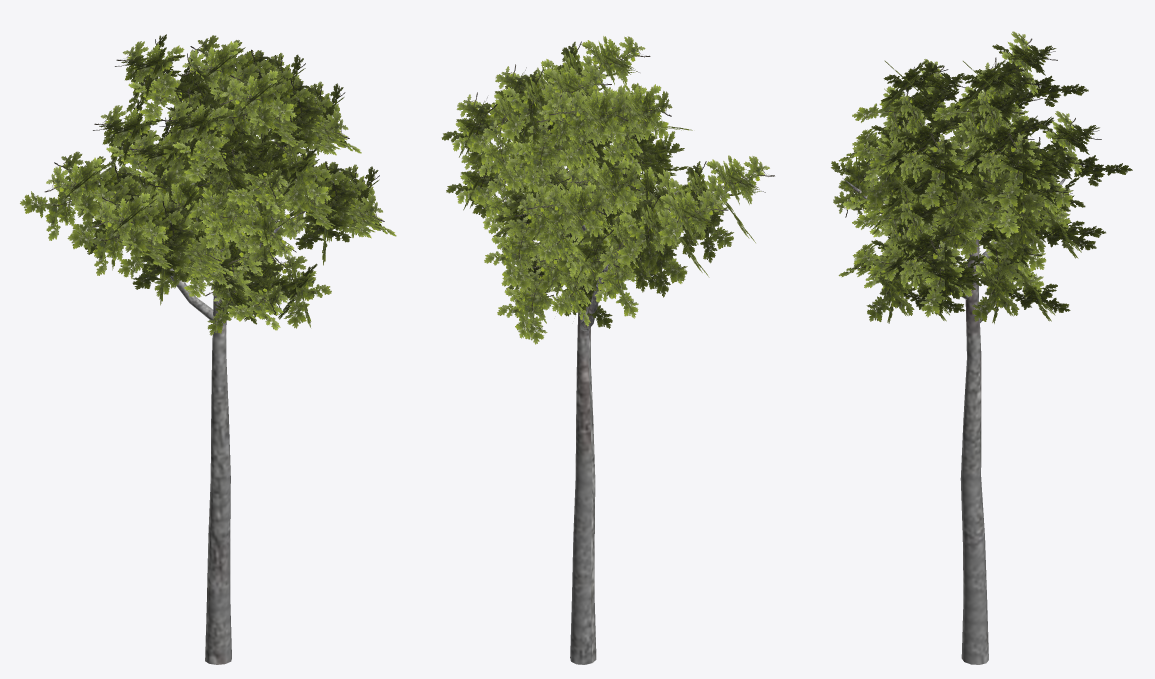
The model's file is Tree3.fbx.
3 renders of one model, left to right at view 1: azimuth 30°, elevation 25°; view 2: azimuth 150°, elevation 25°; view 3: azimuth 270°, elevation 25°, orthographic. The views are drawn at different scales.
Parts seen in each view (by area): view 1: Cylinder031, Plane877, Plane917, Plane787, Plane922, Plane902, Plane817, Plane837, Plane937, Plane807, Plane668, Plane781 (+34 smaller); view 2: Cylinder031, Plane936, Plane744, Plane916, Plane924, Plane764, Plane844, Plane824, Plane876, Plane934, Plane856, Plane854 (+34 smaller); view 3: Cylinder031, Plane766, Plane866, Plane886, Plane846, Plane881, Plane861, Plane746, Plane726, Plane786, Plane878, Plane858 (+38 smaller).
Boxes of the visible parts, x1=… form: Cylinder031: x1=205, y1=244, x2=231, y2=664; Plane877: x1=220, y1=70, x2=296, y2=122; Plane917: x1=92, y1=192, x2=168, y2=244; Plane787: x1=275, y1=255, x2=331, y2=328; Plane922: x1=20, y1=183, x2=93, y2=240; Plane902: x1=67, y1=217, x2=141, y2=275; Plane817: x1=161, y1=101, x2=228, y2=157; Plane837: x1=116, y1=41, x2=184, y2=97; Plane937: x1=44, y1=157, x2=119, y2=207; Plane807: x1=275, y1=140, x2=331, y2=212; Plane668: x1=185, y1=196, x2=263, y2=248; Plane781: x1=227, y1=279, x2=288, y2=330; Cylinder031: x1=570, y1=243, x2=596, y2=664; Plane936: x1=658, y1=190, x2=728, y2=246; Plane744: x1=484, y1=216, x2=539, y2=291; Plane916: x1=705, y1=156, x2=774, y2=211; Plane924: x1=594, y1=244, x2=638, y2=318; Plane764: x1=497, y1=268, x2=552, y2=344; Plane844: x1=478, y1=118, x2=522, y2=192; Plane824: x1=505, y1=122, x2=561, y2=193; Plane876: x1=580, y1=36, x2=650, y2=91; Plane934: x1=617, y1=209, x2=685, y2=264; Plane856: x1=542, y1=64, x2=611, y2=120; Plane854: x1=500, y1=83, x2=560, y2=139; Cylinder031: x1=960, y1=239, x2=988, y2=664; Plane766: x1=971, y1=249, x2=1019, y2=321; Plane866: x1=917, y1=133, x2=972, y2=209; Plane886: x1=917, y1=240, x2=972, y2=317; Plane846: x1=995, y1=133, x2=1050, y2=209; Plane881: x1=852, y1=245, x2=925, y2=288; Plane861: x1=852, y1=138, x2=925, y2=180; Plane746: x1=998, y1=190, x2=1045, y2=259; Plane726: x1=934, y1=190, x2=978, y2=255; Plane786: x1=866, y1=249, x2=914, y2=321; Plane878: x1=881, y1=62, x2=948, y2=106; Plane858: x1=958, y1=62, x2=1026, y2=106.
Bounding box in the file's own units: 278 × 515 × 245.
2 materials, 2 textured.
